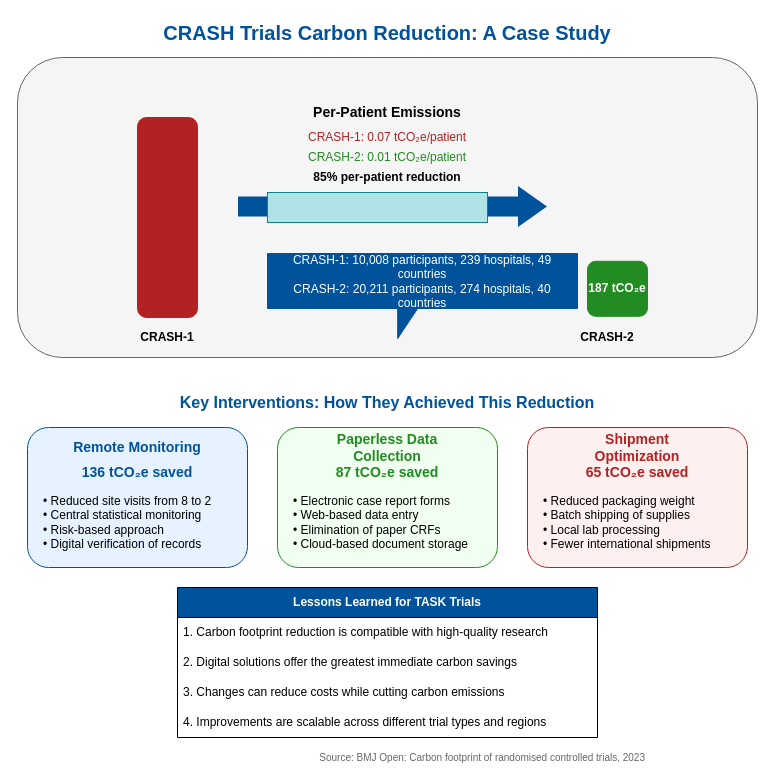
Image size: 775x784. Some labels were removed from this diagram. Here are the shapes that lost their labels. From the top down, the centre of each, then its label:
At (167,217): "683 tCO₂e".
At (377,207): "73% CARBON REDUCTION".
